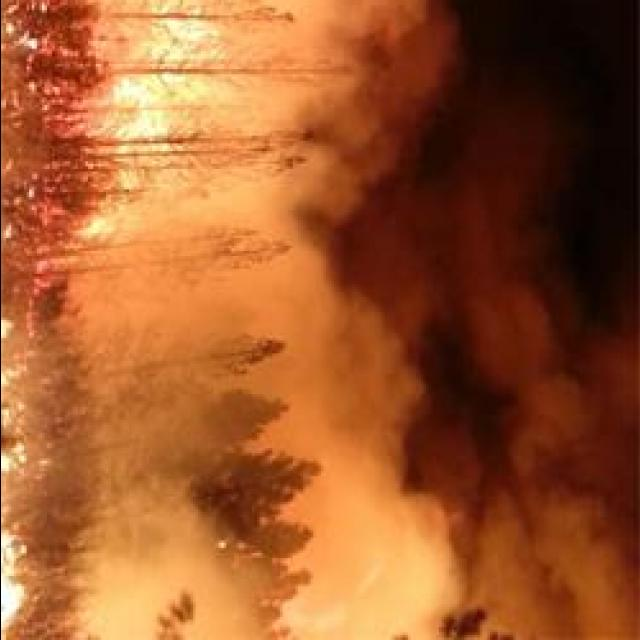fire: (132, 15, 218, 74), (106, 82, 170, 150), (1, 526, 28, 636), (0, 448, 26, 472)
smoke: (205, 0, 466, 144), (466, 476, 640, 638), (313, 463, 467, 638), (460, 292, 597, 460), (304, 288, 424, 474), (49, 504, 192, 640), (407, 109, 561, 229), (154, 258, 350, 349)
